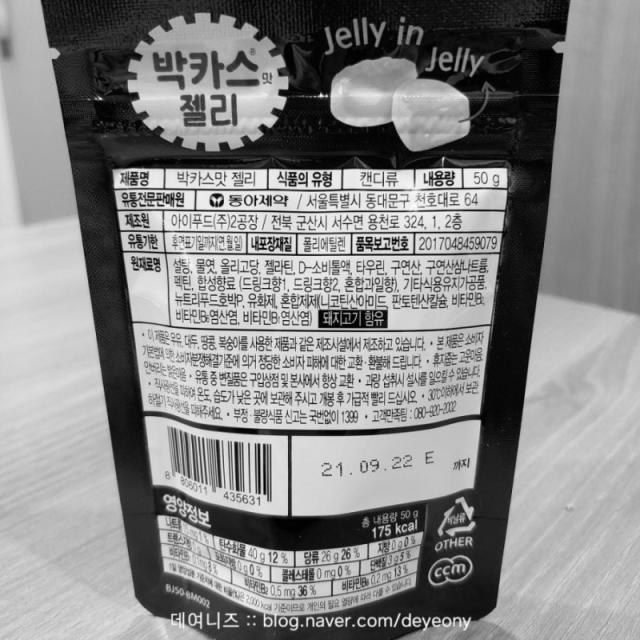Nutrition Label: (150, 486, 430, 614)
